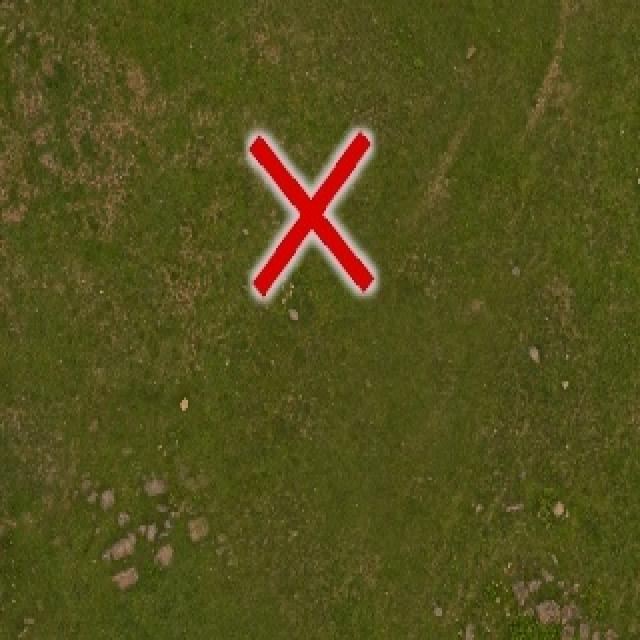x_marker: (249, 132, 373, 295)
